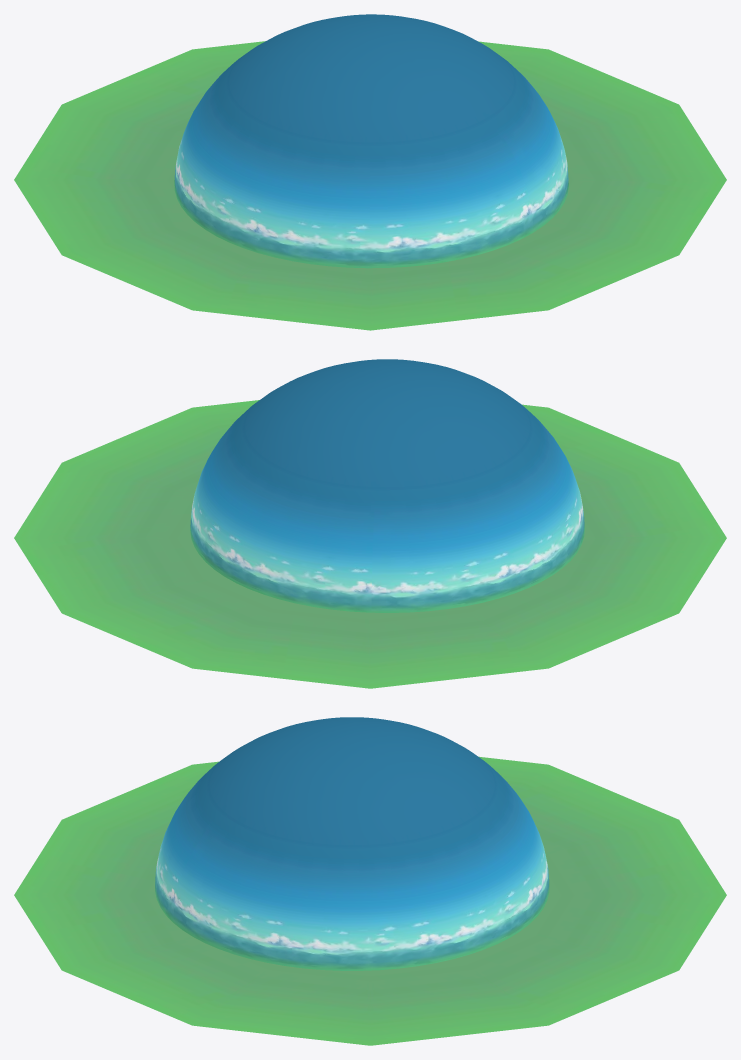
File: west_city.glb
The picture shows the model from 3 angles, top to bottom: view 1: azimuth 30°, elevation 25°; view 2: azimuth 150°, elevation 25°; view 3: azimuth 270°, elevation 25°; orthographic projection.
Parts seen in each view (by area): view 1: Object_8, Object_19; view 2: Object_8, Object_19; view 3: Object_8, Object_19.
Boxes of the visible parts, x1,y1,x2,y2 form: Object_8: (14,41,726,330); Object_19: (174,14,568,268); Object_8: (14,400,726,688); Object_19: (190,359,584,612); Object_8: (14,756,726,1045); Object_19: (155,717,549,970).
Size of the model in its own units: 2611 by 638 by 2611.
Materials: 42 (40 with a texture image).
